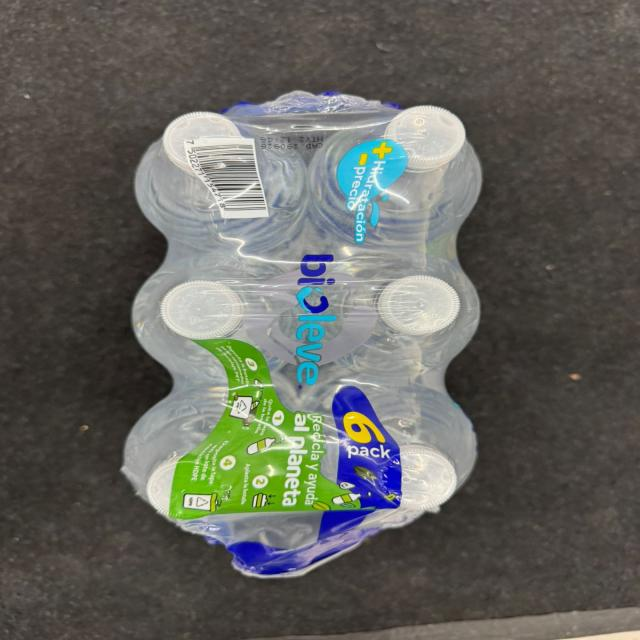Agua Bioleve 1L 6pack: (126, 77, 495, 594)
